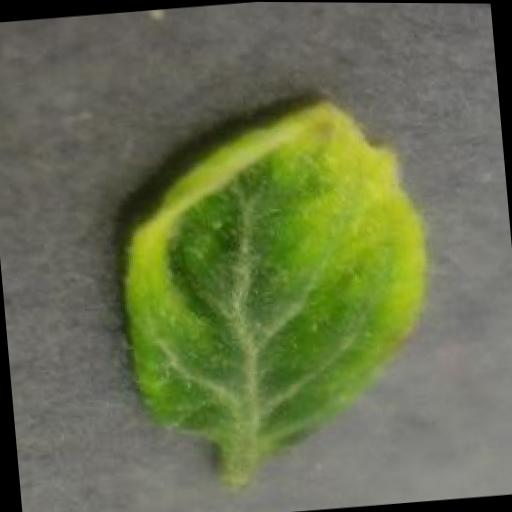Yellow Leaf Curl Virus: (106, 89, 444, 451)
